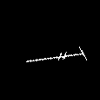treble_crochet: (27, 47, 86, 61)
